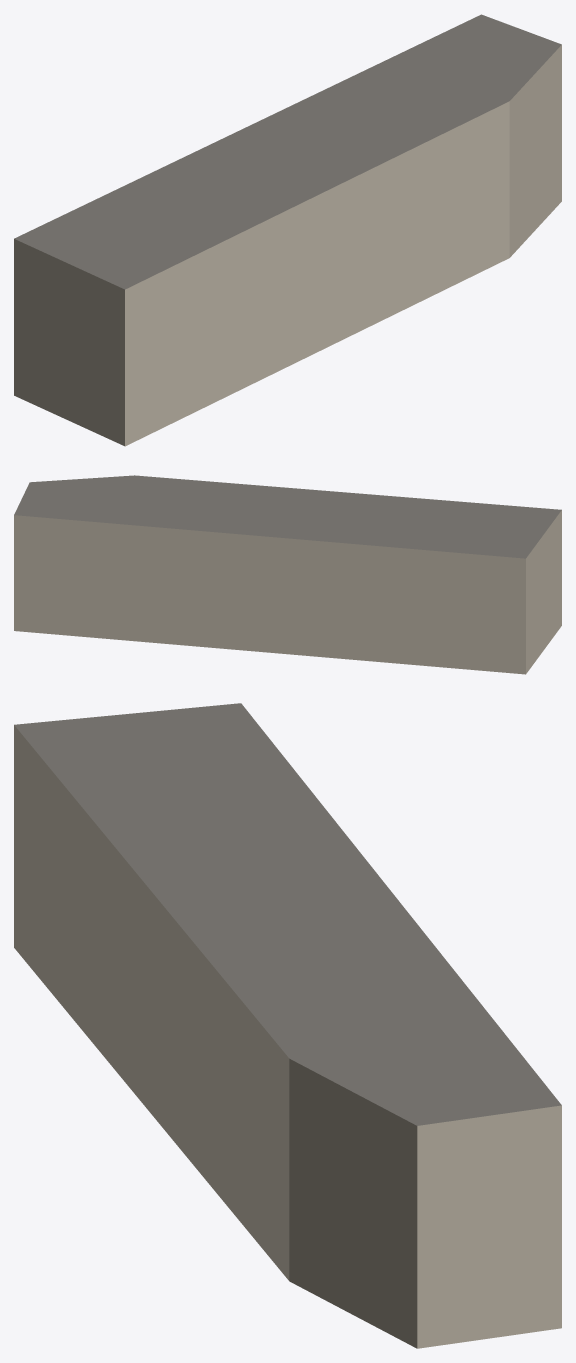
3 renders of one model, top to bottom at view 1: azimuth 30°, elevation 25°; view 2: azimuth 150°, elevation 25°; view 3: azimuth 270°, elevation 25°, orthographic. The views are drawn at different scales.
Parts seen in each view (by area): view 1: HP-w859488665; view 2: HP-w859488665; view 3: HP-w859488665.
Part boxes in pixels (<box>): HP-w859488665: <box>14,14,561,446</box>; HP-w859488665: <box>14,475,561,674</box>; HP-w859488665: <box>14,703,561,1348</box>.
Bounding box in the file's own units: 48.82 × 12 × 26.74.
